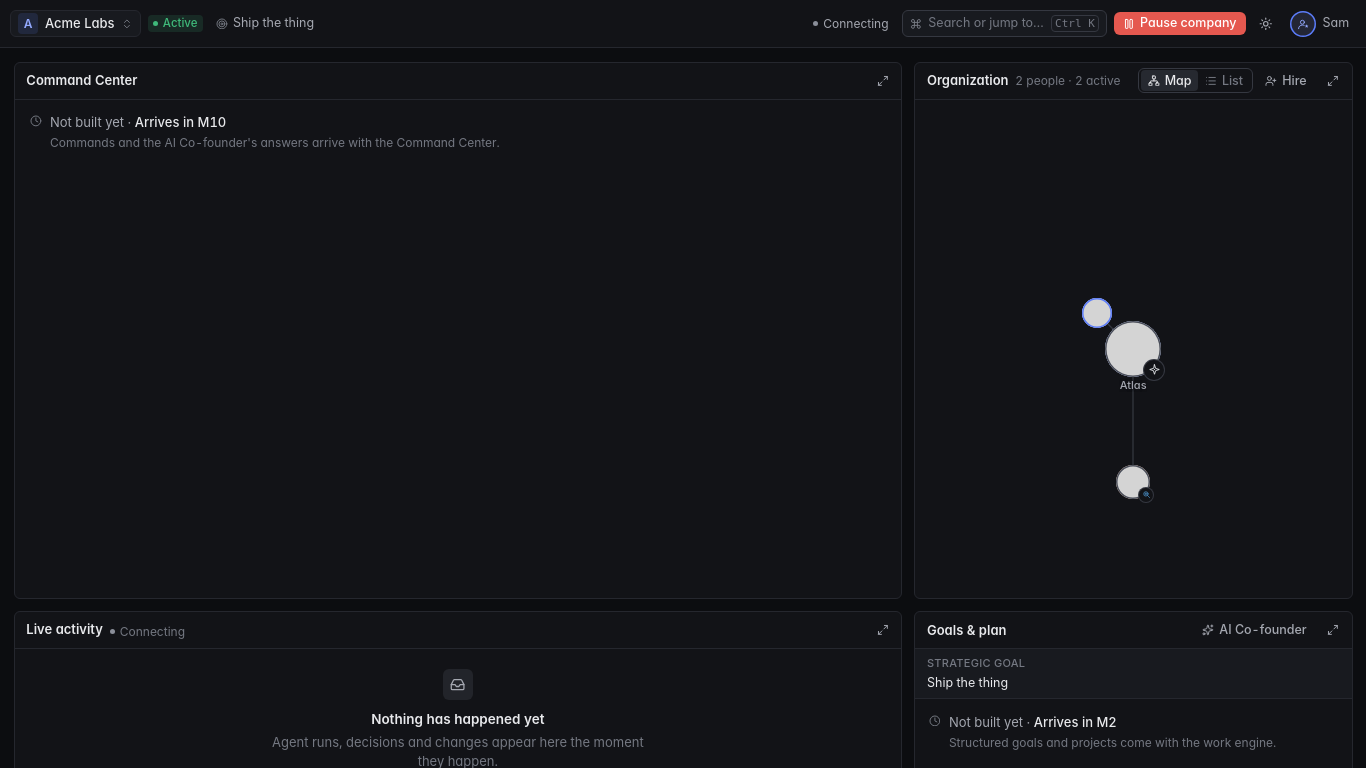
Test: command palette › wakes the AI Co-founder
expect the text "Atlas" is shown: met, box 1120,378 -> 1147,392
Step 1. Type keys "{Control>}k{/Control}"
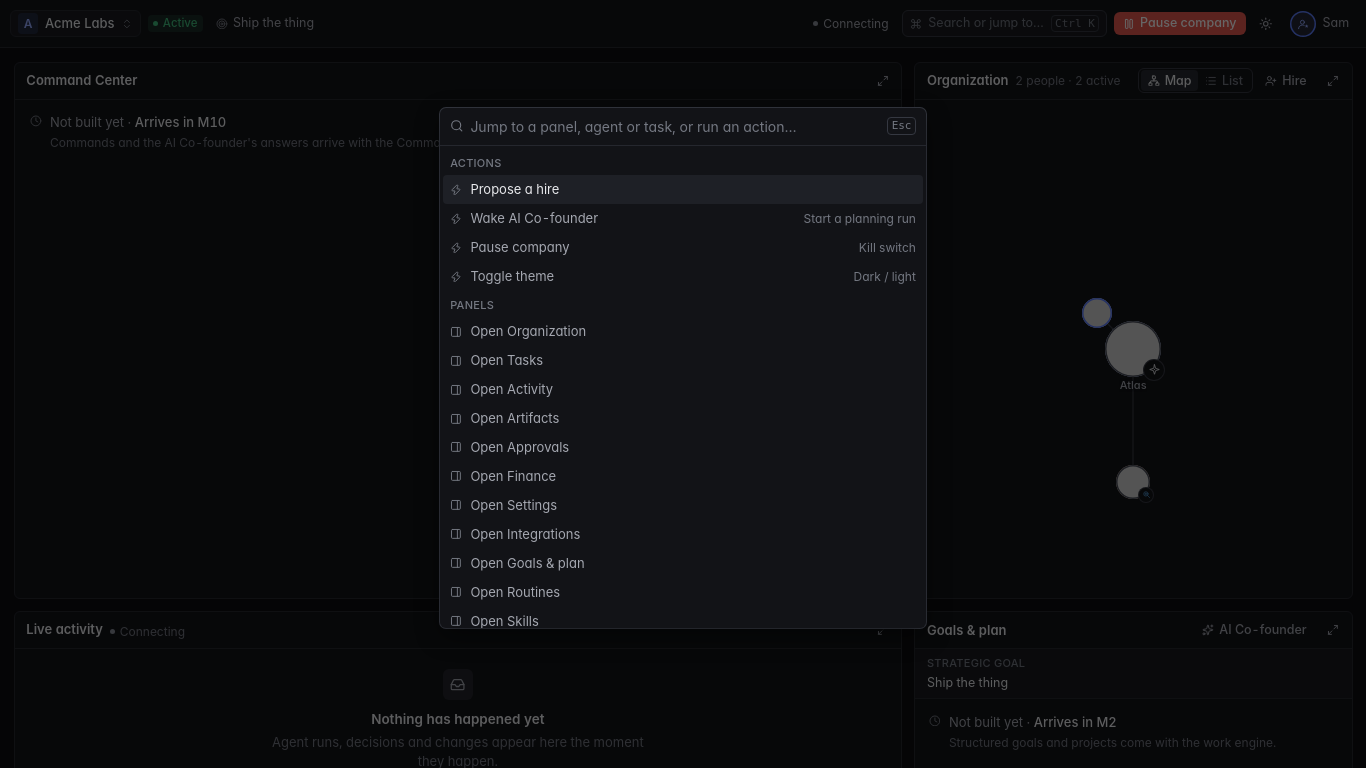
Step 2. Type "wake" into the dropdown named "Search commands" → (675, 126), box 470,108 -> 880,145
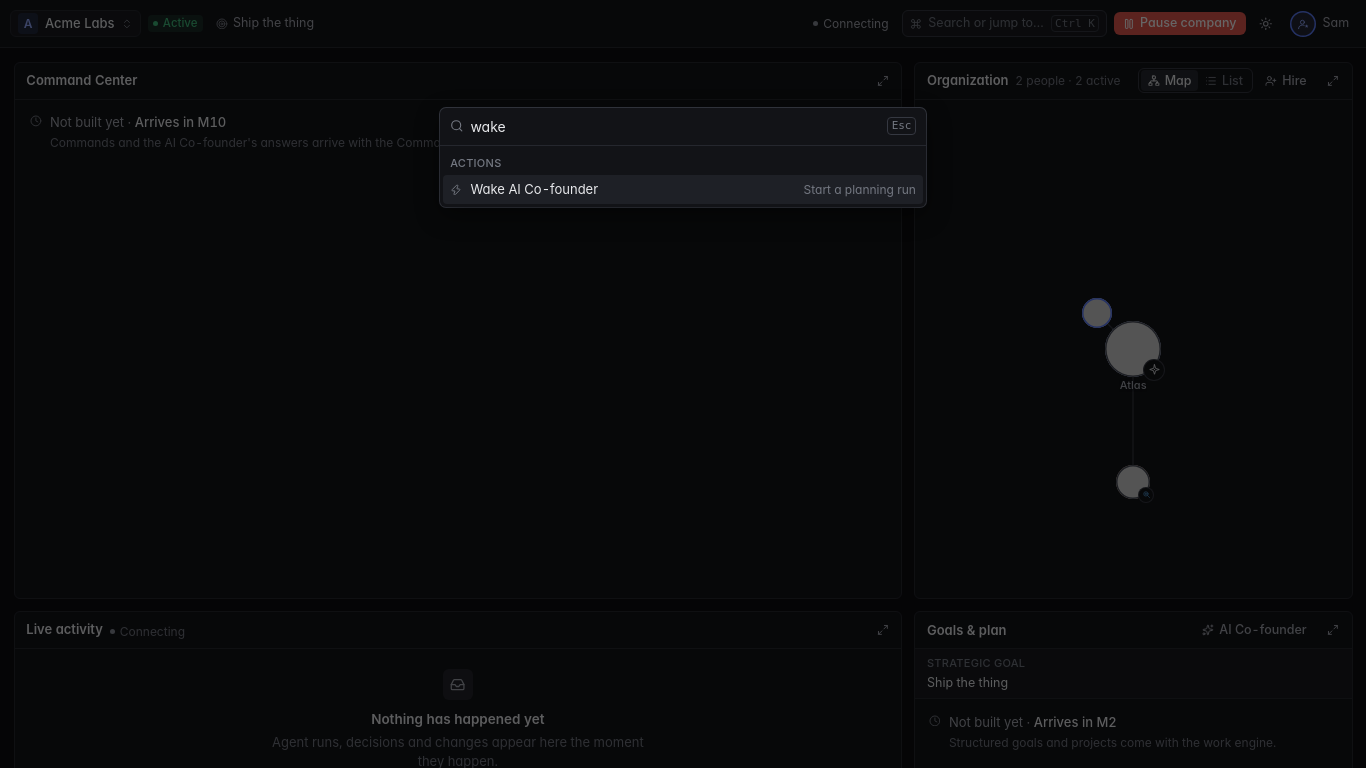
Step 3. Click the option "Wake AI Co-founder Start a planning run" → (534, 189), box 443,175 -> 923,204
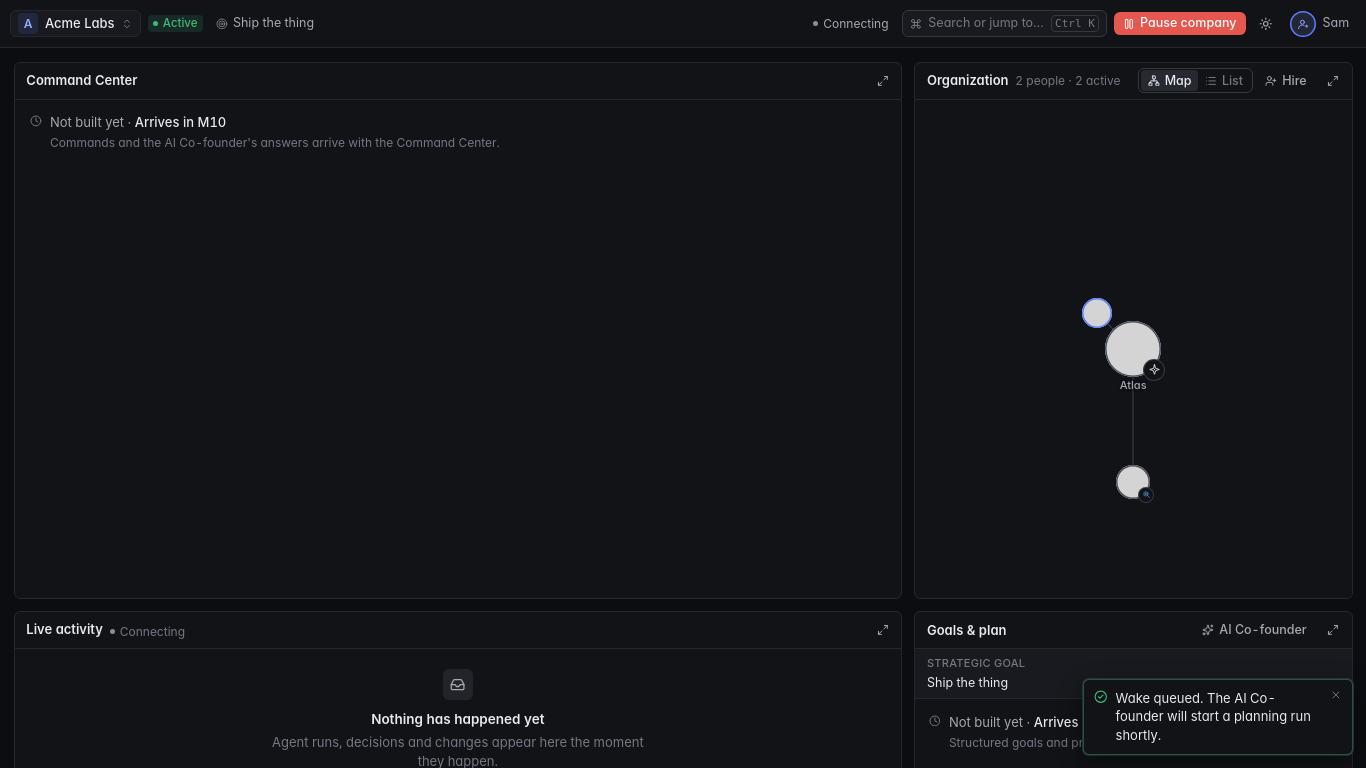
expect the text "Wake queued" is shown: met, box 1116,690 -> 1311,743
